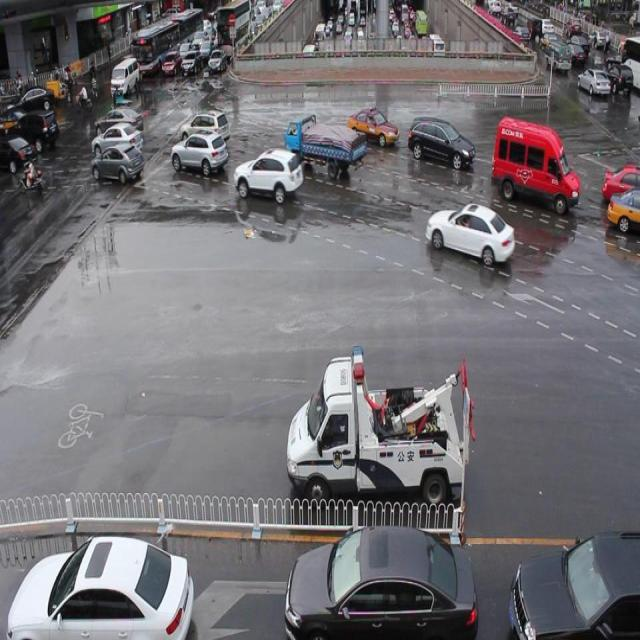car: (294, 342, 469, 516), (274, 516, 484, 640), (10, 530, 188, 640), (494, 100, 572, 216), (431, 188, 514, 287), (288, 101, 364, 188), (230, 141, 312, 219), (398, 107, 476, 179), (345, 89, 404, 166), (168, 123, 230, 190), (85, 134, 146, 199), (181, 100, 236, 152), (13, 91, 61, 150), (575, 64, 608, 116), (107, 52, 145, 97)
